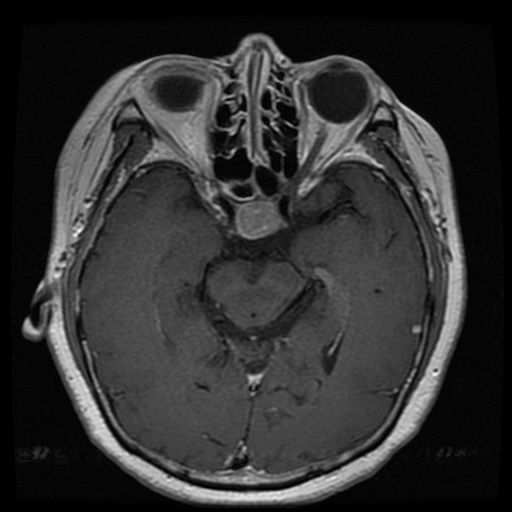pituitary: (234, 199, 283, 239)
